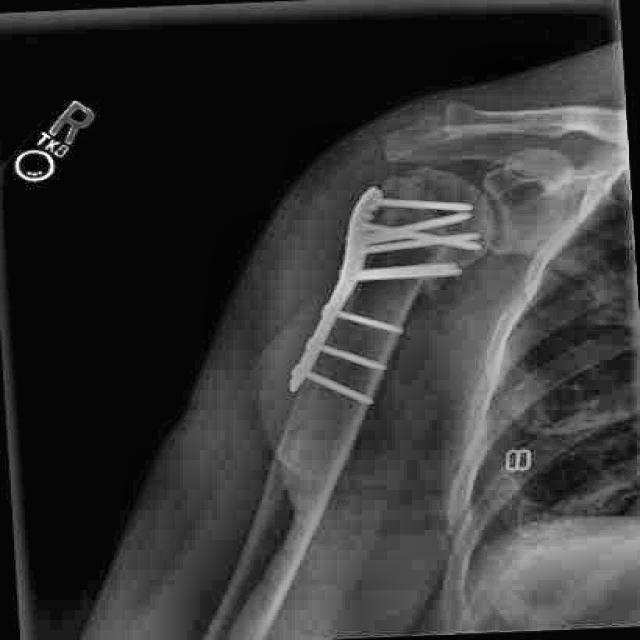humerus: (386, 169, 499, 287)
